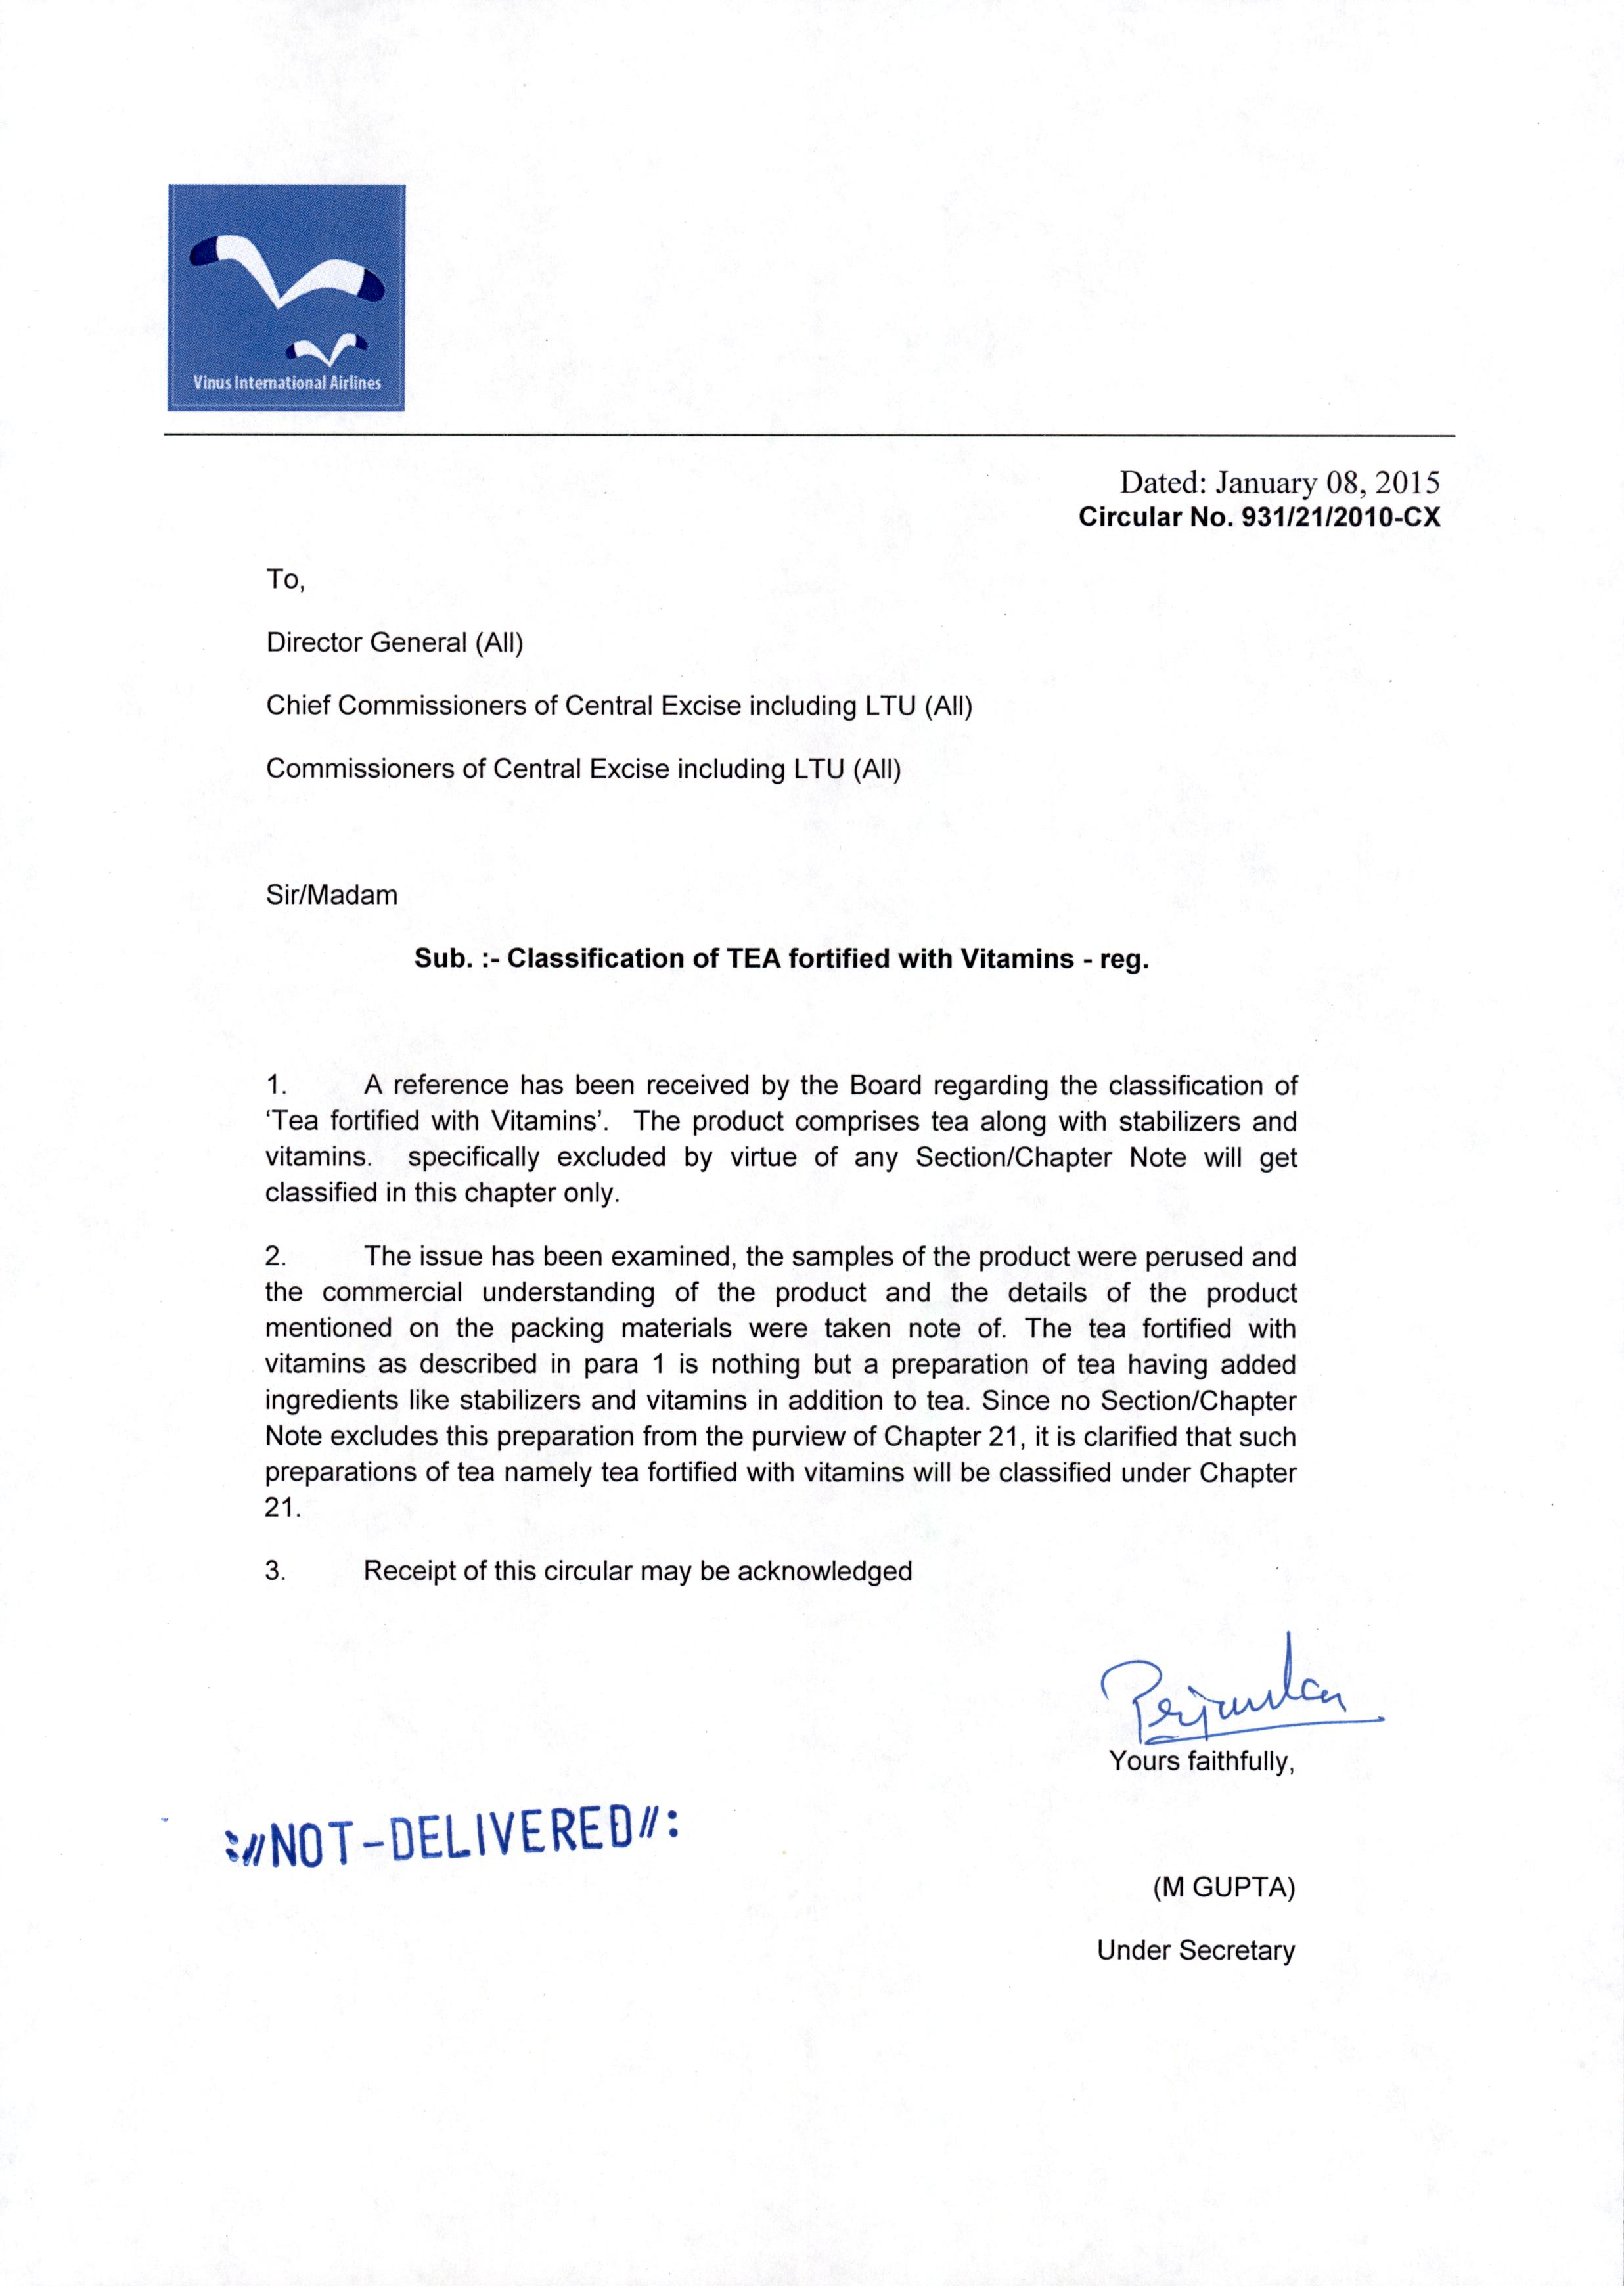Signature: (1095, 1625, 1387, 1745)
